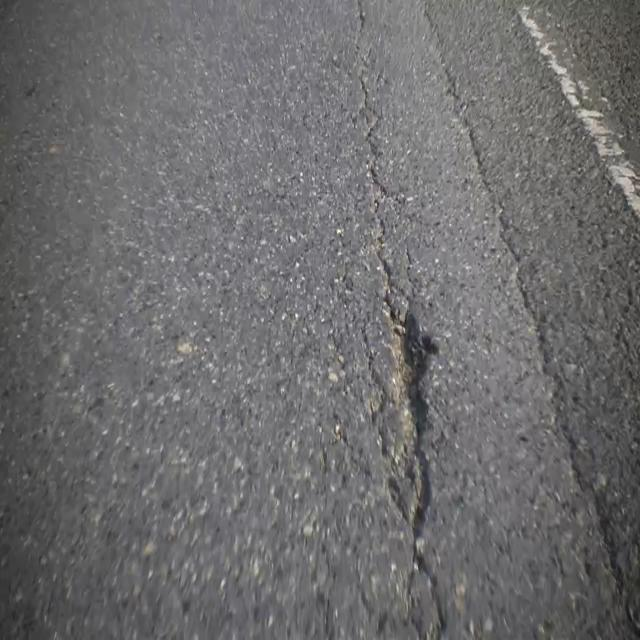Pothole: (348, 274, 446, 551)
